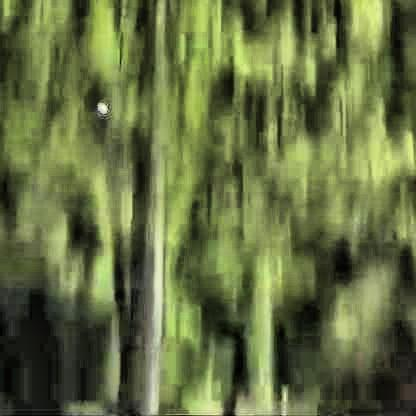golfball: (93, 97, 104, 113)
